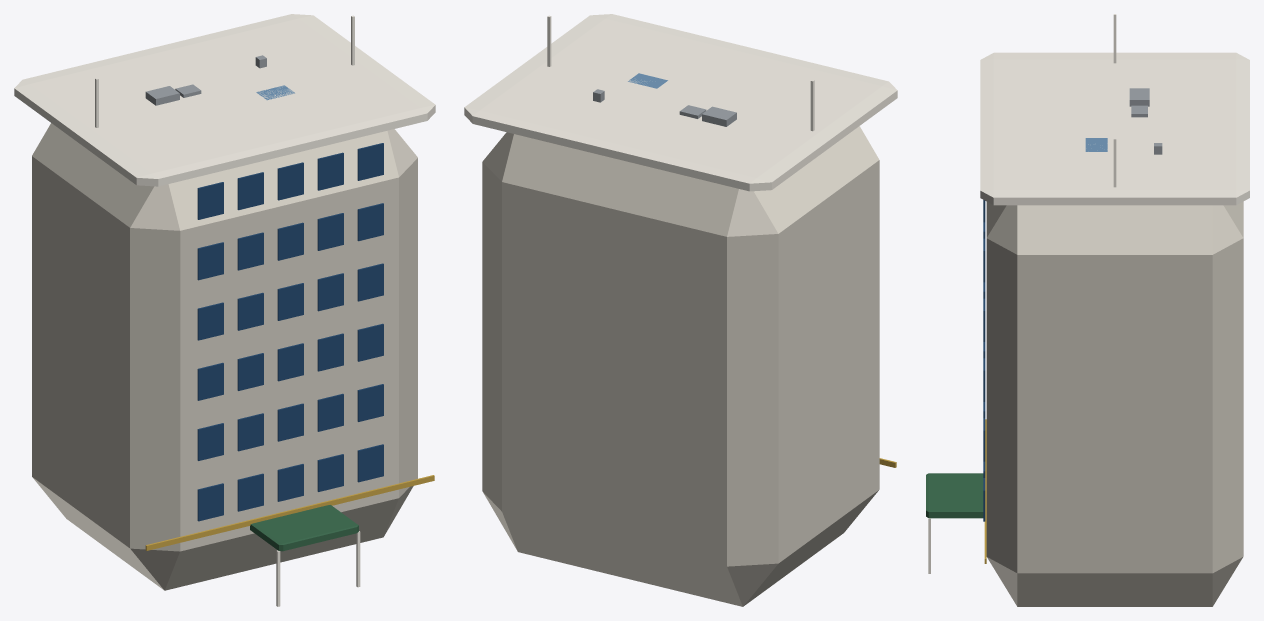
The model's file is hotel_block.glb.
The picture shows the model from 3 angles, left to right: view 1: azimuth 30°, elevation 25°; view 2: azimuth 150°, elevation 25°; view 3: azimuth 270°, elevation 25°; orthographic projection. The views are drawn at different scales.
Parts seen in each view (by area): view 1: walls, cornice, porte, goldband, win.012, win.004, win.006, win.007, win.008, win.010, win, win.009 (+22 smaller); view 2: walls, cornice; view 3: walls, cornice, porte.
Boxes of the visible parts, x1,y1,x2,y2 form: walls: [32, 123, 417, 590]; cornice: [14, 14, 435, 186]; porte: [250, 505, 358, 551]; goldband: [145, 475, 434, 550]; win.012: [277, 343, 303, 381]; win.004: [357, 444, 383, 482]; win.006: [237, 413, 263, 451]; win.007: [277, 403, 303, 441]; win.008: [317, 393, 343, 431]; win.010: [197, 362, 223, 400]; win: [197, 483, 223, 521]; win.009: [357, 384, 383, 421]; walls: [482, 126, 879, 606]; cornice: [464, 14, 897, 191]; walls: [986, 201, 1243, 606]; cornice: [980, 52, 1249, 205]; porte: [926, 473, 983, 518].
Size of the model in its own units: 18.7 by 28.7 by 17.65.
